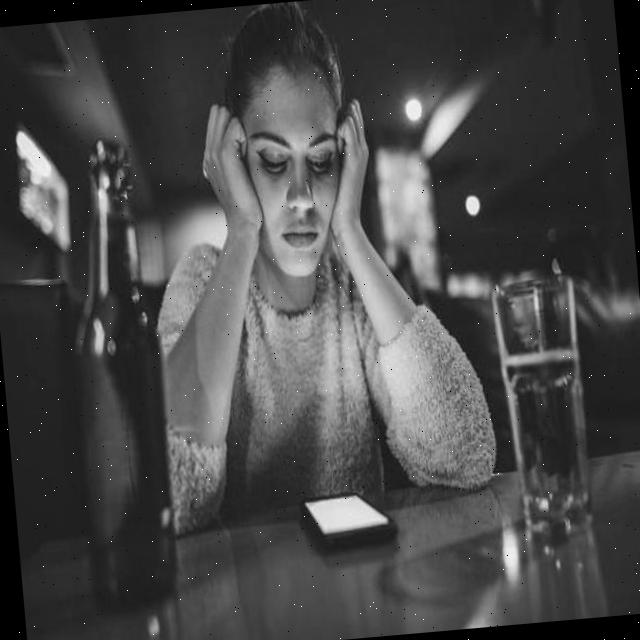Sadness: (240, 66, 353, 284)
